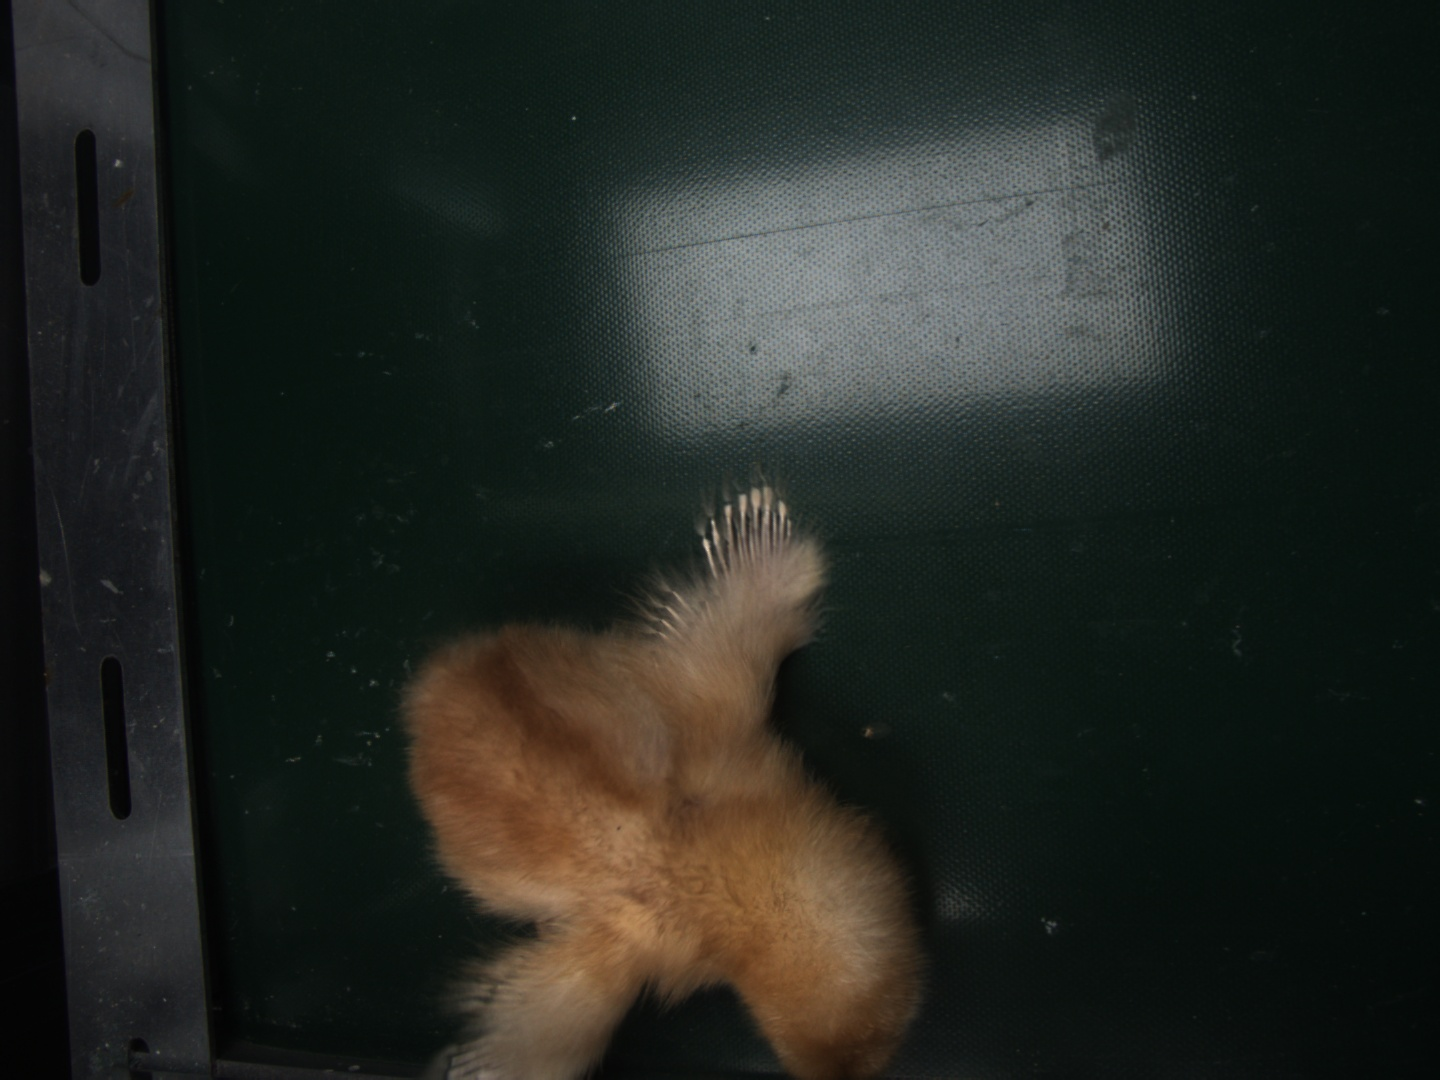female: (695, 484, 795, 582)
